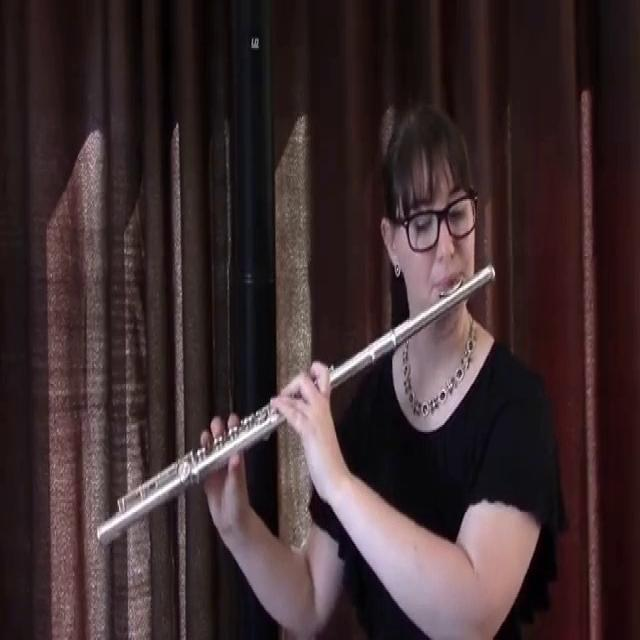Flute: (91, 253, 501, 563)
